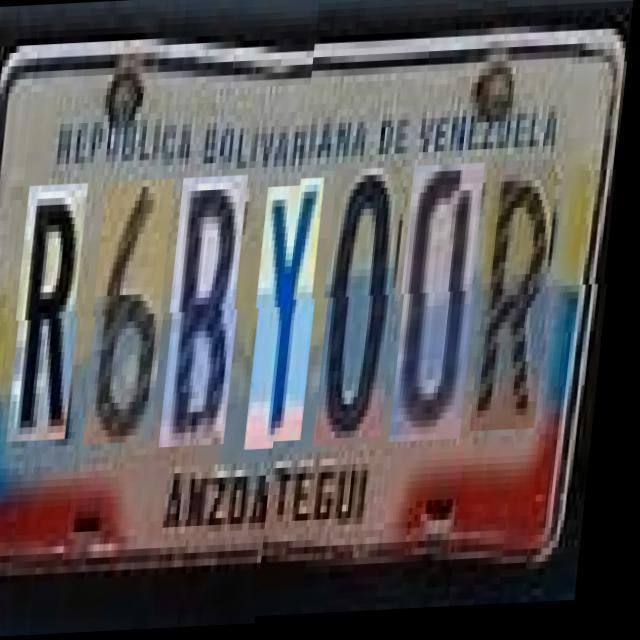0: (398, 174, 492, 453)
6: (92, 181, 182, 446)
B: (169, 178, 255, 450)
O: (322, 171, 412, 457)
R: (479, 172, 565, 444), (16, 184, 95, 442)
Y: (254, 188, 332, 453)
